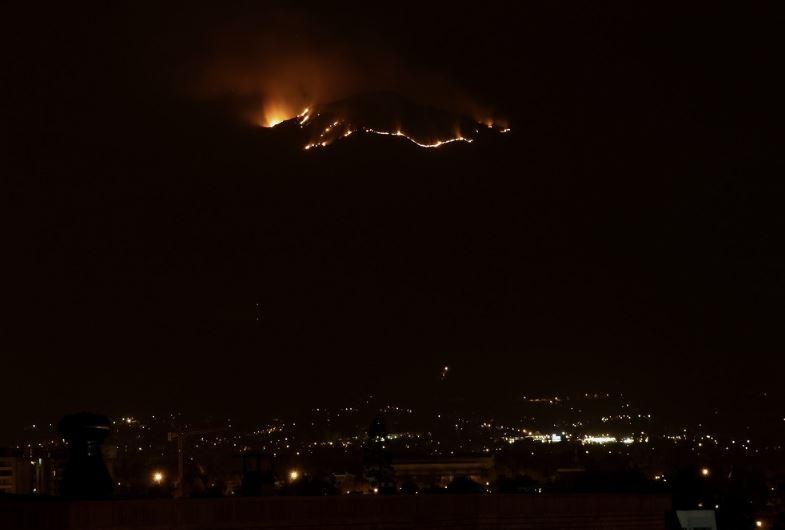fire: (298, 111, 476, 158), (263, 100, 311, 131), (484, 118, 494, 132), (500, 126, 513, 134)
